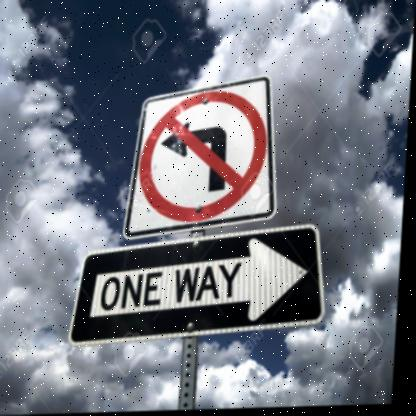No left turn: (134, 92, 280, 223)
